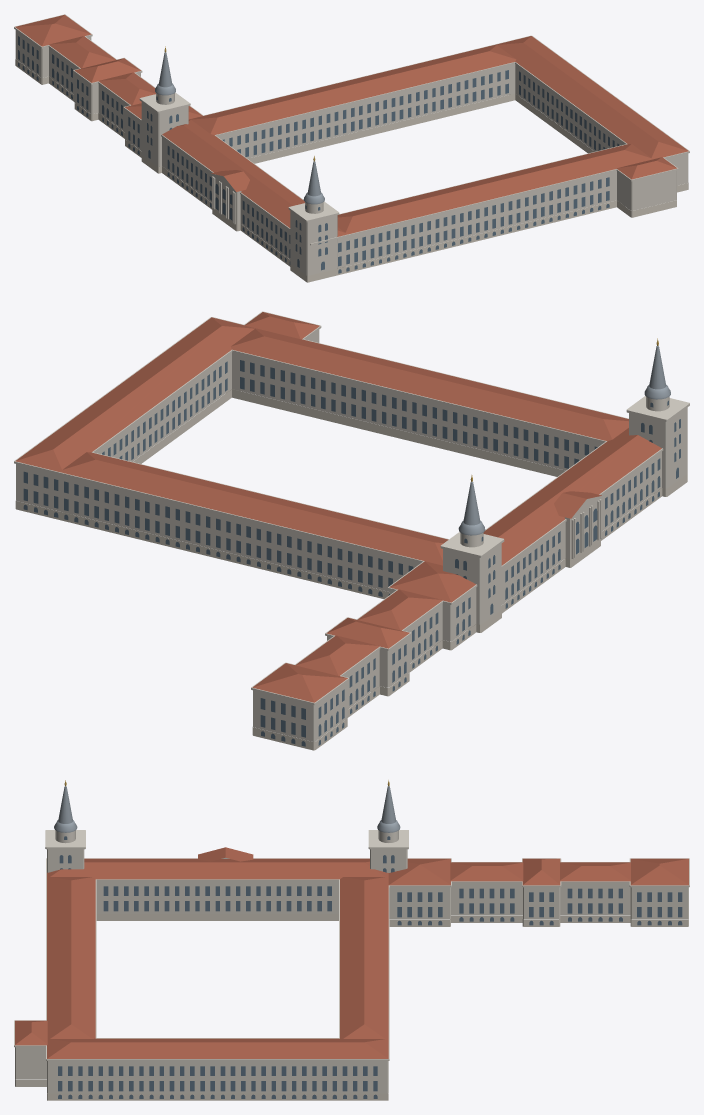
File: istanbul-kuleli-military-school.glb
The picture shows the model from 3 angles, top to bottom: view 1: azimuth 30°, elevation 25°; view 2: azimuth 150°, elevation 25°; view 3: azimuth 270°, elevation 25°; orthographic projection. The views are drawn at different scales.
Parts seen in each view (by area): view 1: Kuleli Military High School; view 2: Kuleli Military High School; view 3: Kuleli Military High School.
Boxes of the visible parts, x1,y1,x2,y2 form: Kuleli Military High School: (14,14,689,282); Kuleli Military High School: (14,311,689,750); Kuleli Military High School: (14,780,689,1100).
Size of the model in its own units: 154 by 45 by 216.
